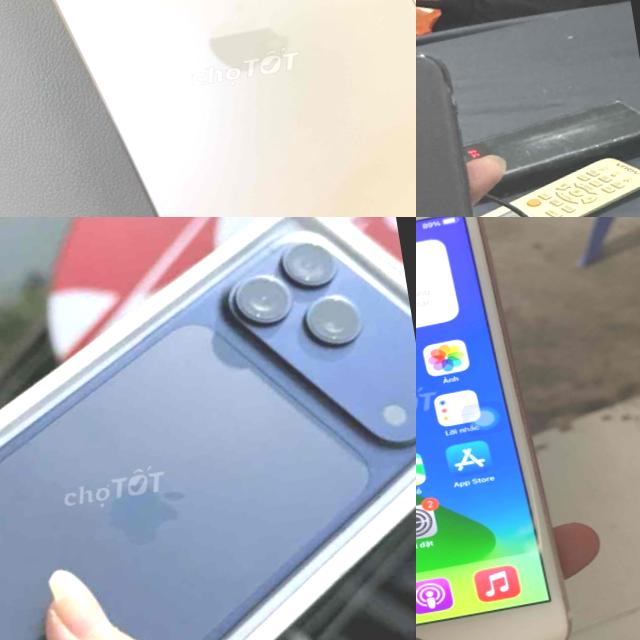gen_11: (416, 26, 529, 217)
gen_16: (53, 0, 416, 217)
gen_17: (0, 242, 416, 640)
gen_6: (416, 217, 587, 640)
